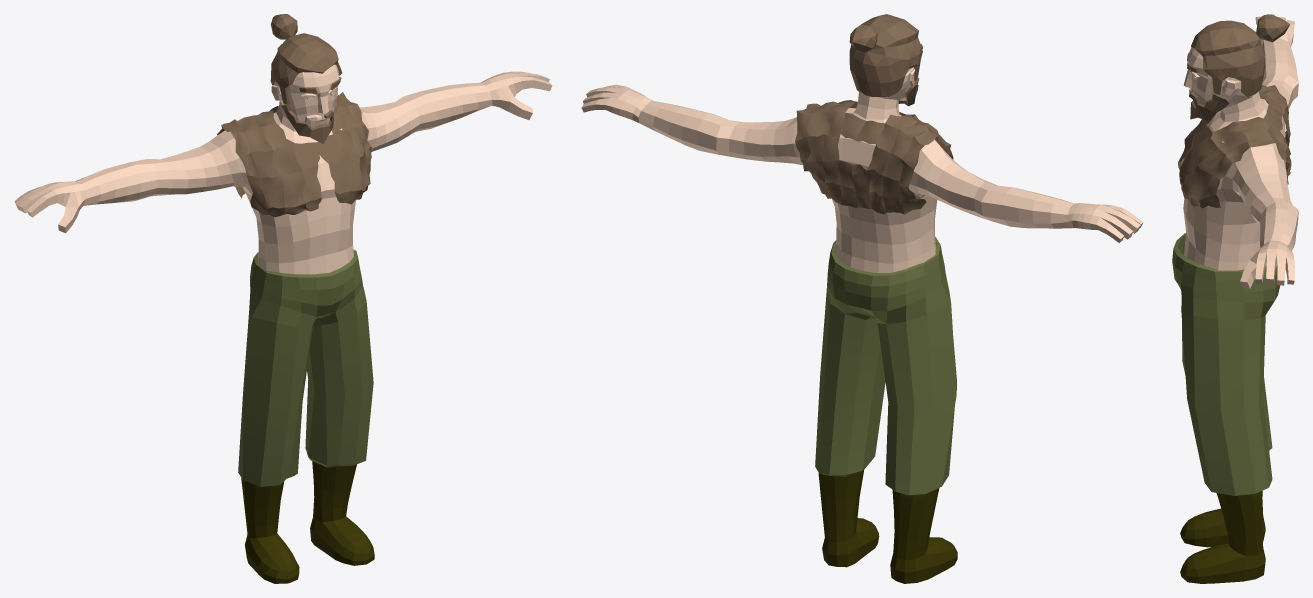
Rendered from warrior.fbx.
3 renders of one model, left to right at view 1: azimuth 30°, elevation 25°; view 2: azimuth 150°, elevation 25°; view 3: azimuth 270°, elevation 25°, orthographic. The views are drawn at different scales.
Visible parts, largest first — view 1: warrior:Mesh; view 2: warrior:Mesh; view 3: warrior:Mesh.
Boxes of the visible parts, bbox=[...] form: warrior:Mesh: bbox=[14, 14, 552, 583]; warrior:Mesh: bbox=[581, 14, 1143, 583]; warrior:Mesh: bbox=[1172, 14, 1298, 583].
Bounding box in the file's own units: 201 × 192 × 40.69.
